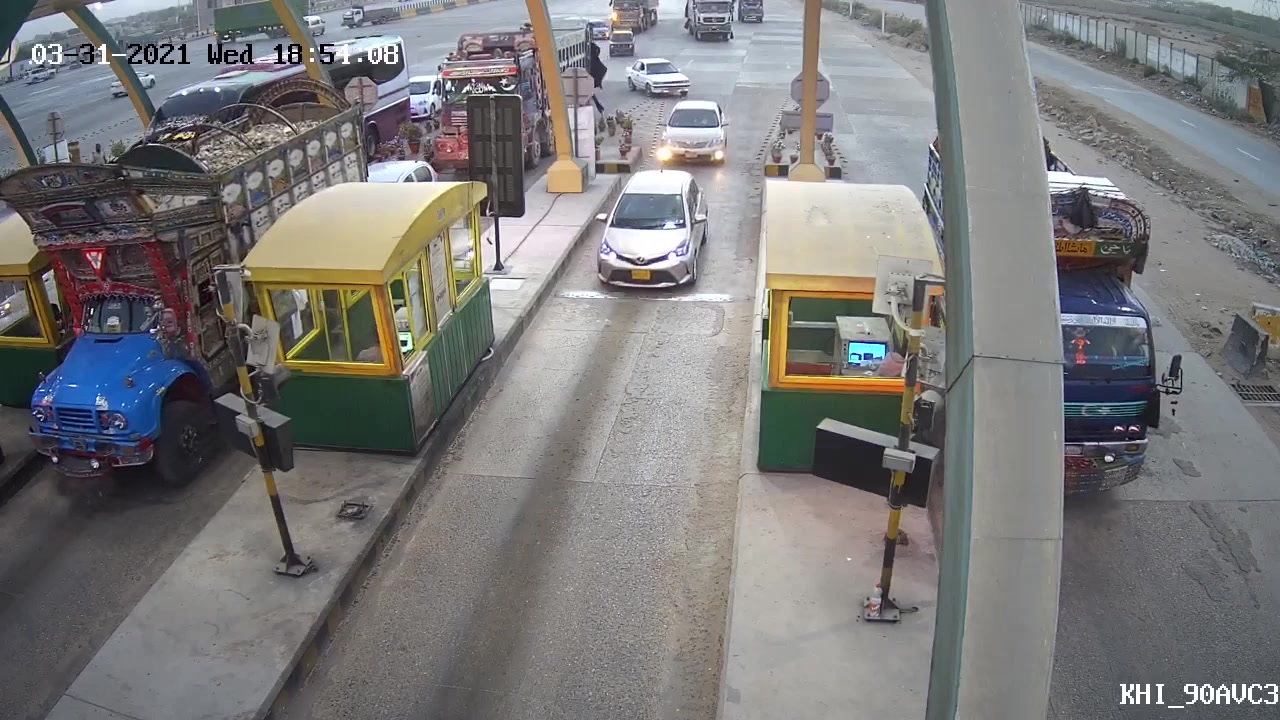F1: (583, 164, 719, 292)
